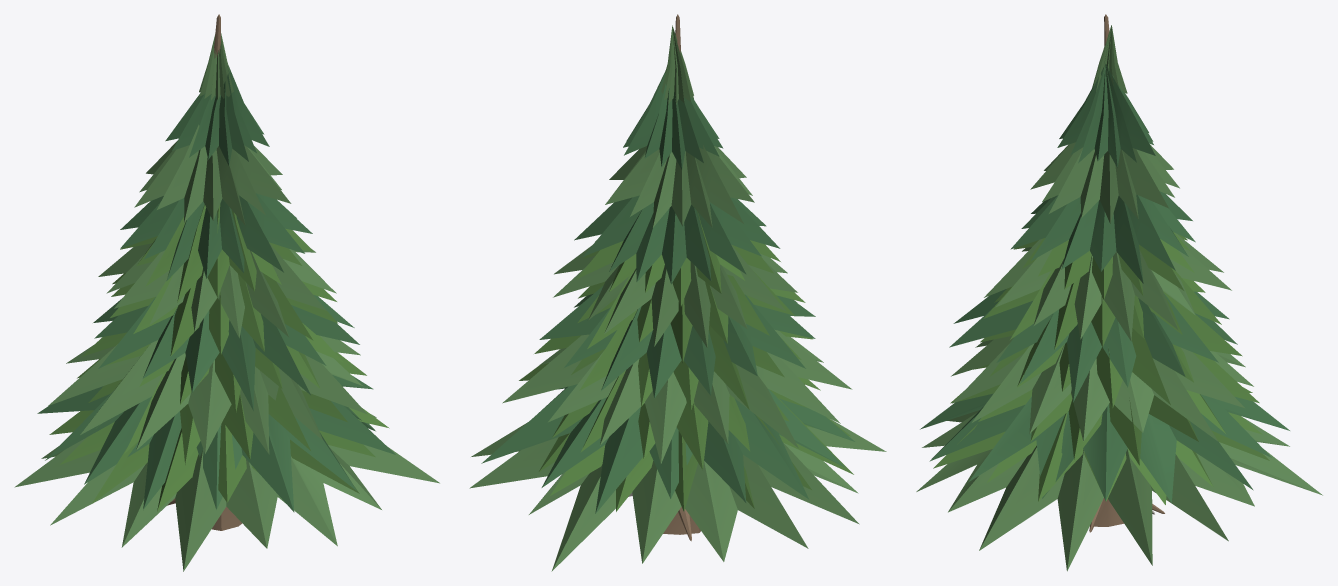
Rendered from tree_pine_young.glb.
The picture shows the model from 3 angles, left to right: view 1: azimuth 30°, elevation 25°; view 2: azimuth 150°, elevation 25°; view 3: azimuth 270°, elevation 25°; orthographic projection.
Visible parts, largest first — view 1: Body; view 2: Body; view 3: Body.
Part boxes in pixels (bbox=[...]): Body: bbox=[14, 14, 439, 571]; Body: bbox=[469, 14, 886, 571]; Body: bbox=[916, 14, 1322, 571].
Size of the model in its own units: 2.76 by 3.73 by 2.74.
